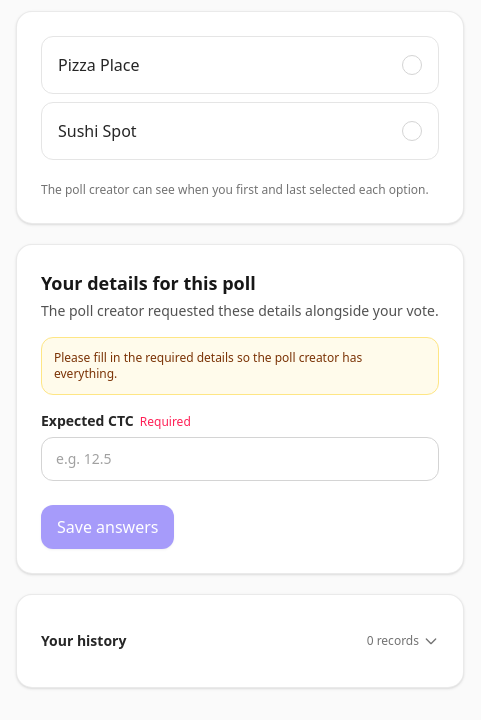
Scenario: PollPage › server validation details appear on the right field
The image size is (481, 720).
(page scrolled)
Check: the heading "Your details for this poll" is shown, box left=41, top=271, right=256, bottom=295
Type "0" into the field labelled "Expected CTC" at (240, 459), box left=41, top=437, right=439, bottom=481
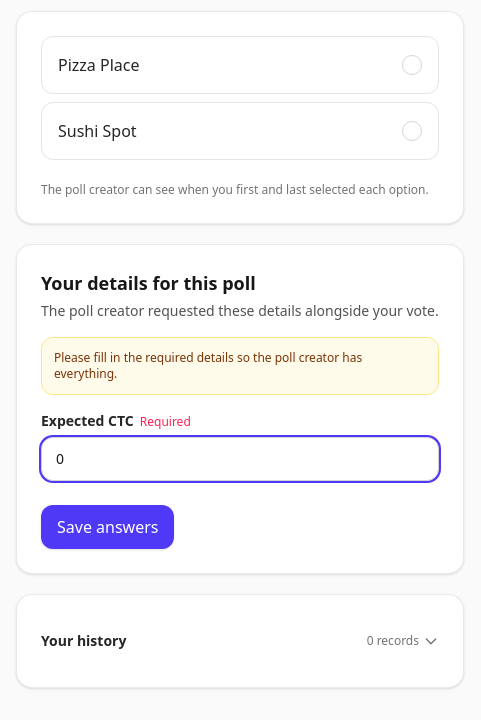
Click the button "Save answers" at (108, 527), box left=41, top=505, right=174, bottom=549
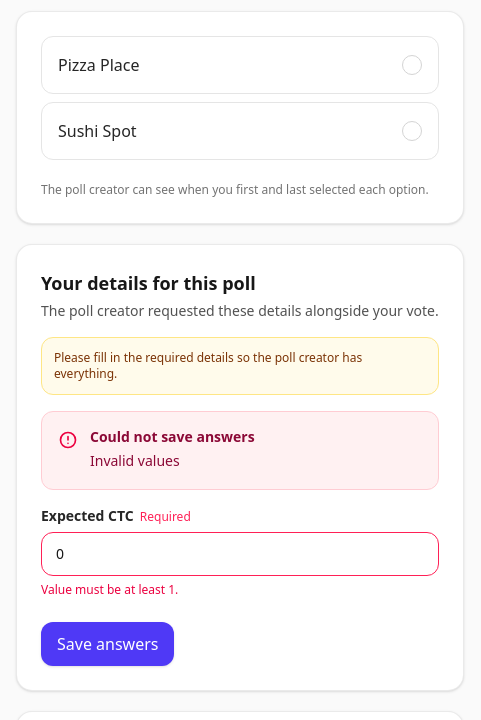
Check: the text "Value must be at least 1." is shown, box left=41, top=580, right=178, bottom=598
